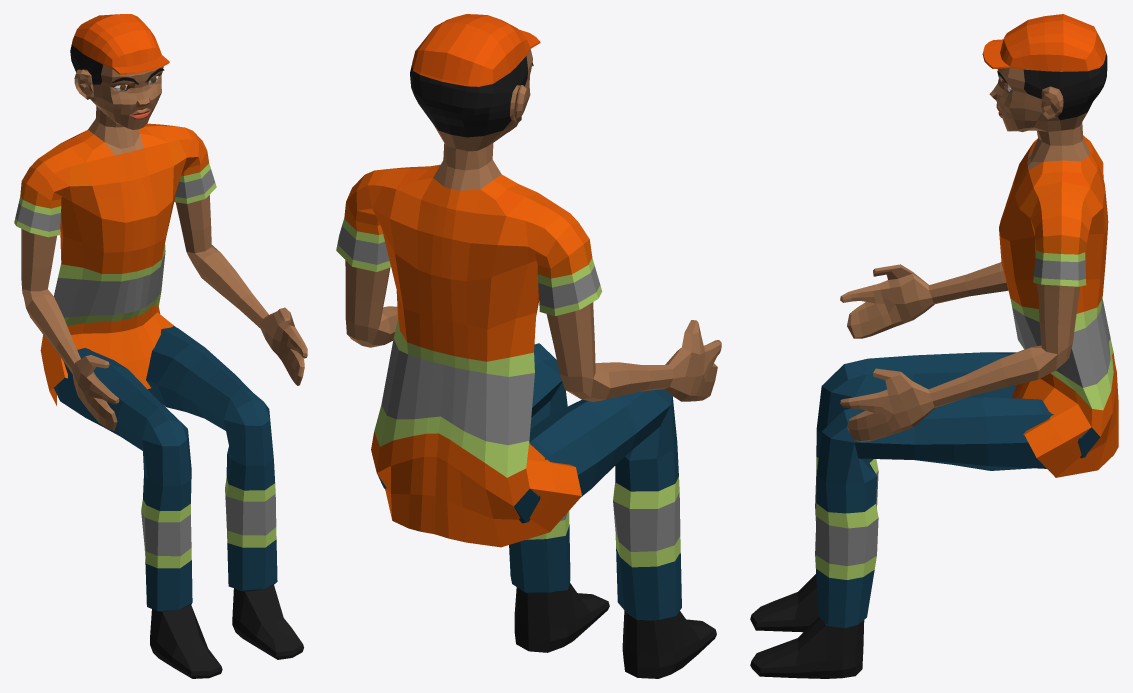
Rendered from Garbageman_Sit.fbx.
The picture shows the model from 3 angles, left to right: view 1: azimuth 30°, elevation 25°; view 2: azimuth 150°, elevation 25°; view 3: azimuth 270°, elevation 25°; orthographic projection. The views are drawn at different scales.
Parts seen in each view (by area): view 1: Garbageman_Sit; view 2: Garbageman_Sit; view 3: Garbageman_Sit.
Part boxes in pixels (left/top/right/bottom): Garbageman_Sit: left=14, top=14, right=307, bottom=678; Garbageman_Sit: left=336, top=14, right=721, bottom=678; Garbageman_Sit: left=750, top=14, right=1118, bottom=678.
Size of the model in its own units: 0.3234 by 0.8093 by 0.4319.
